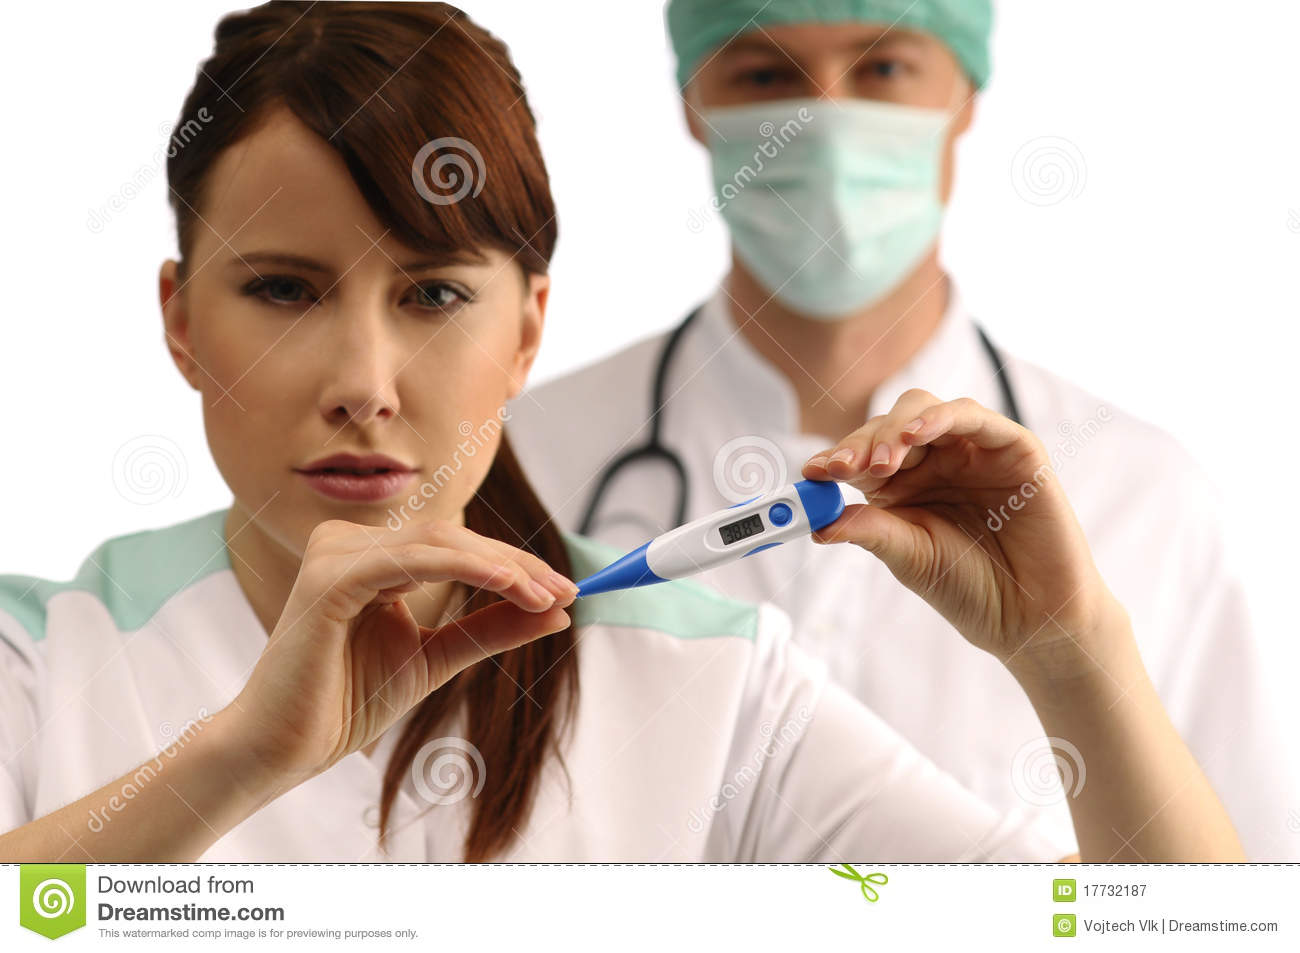mask: (701, 103, 960, 328)
